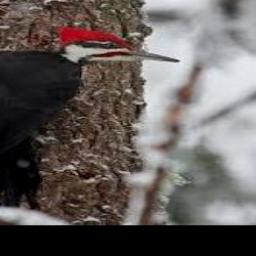Woodpecker: (0, 26, 179, 209)
